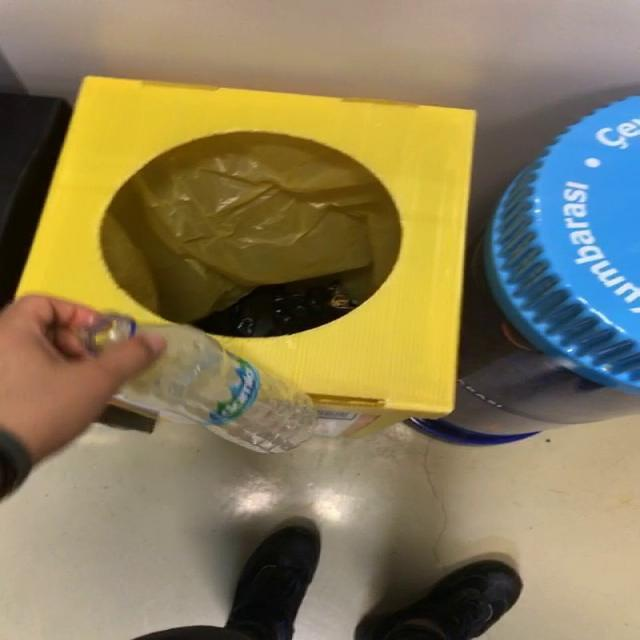Plastic: (113, 326, 317, 454), (91, 316, 132, 350)
